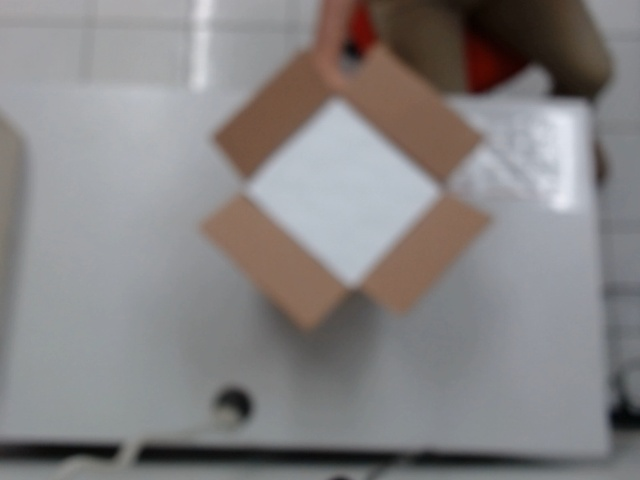caixa_principal: (234, 79, 466, 295)
